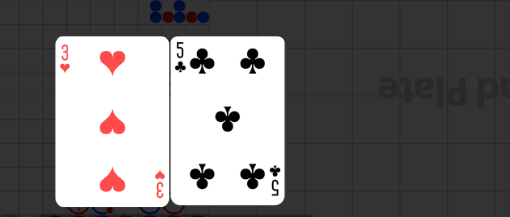3H: (59, 43, 72, 75)
5C: (268, 163, 283, 197)
